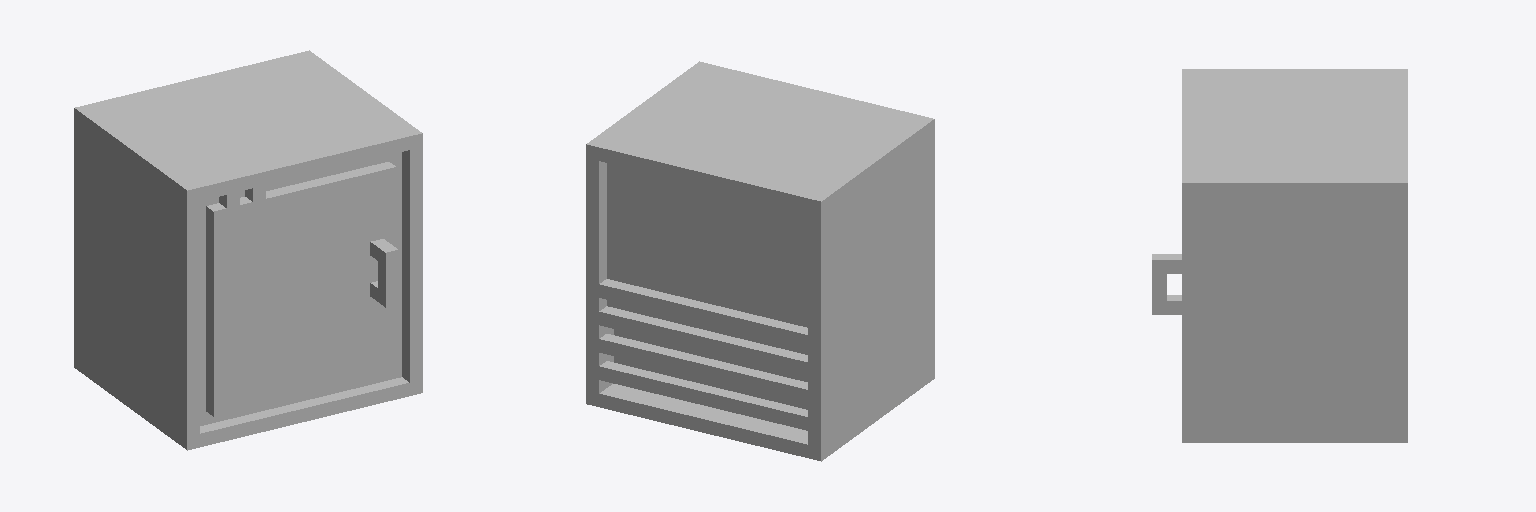
Rendered from obj_fridge.obj.
3 views of the same model, side by side, from view 1: azimuth 30°, elevation 25°; view 2: azimuth 150°, elevation 25°; view 3: azimuth 270°, elevation 25° (orthographic).
Parts seen in each view (by area): view 1: obj_fridge; view 2: obj_fridge; view 3: obj_fridge.
Boxes of the visible parts, box(x1,y1,x2,y2) form: obj_fridge: box(74, 50, 422, 450); obj_fridge: box(586, 61, 934, 461); obj_fridge: box(1152, 69, 1407, 442).
Size of the model in its own units: 18 by 19 by 17.